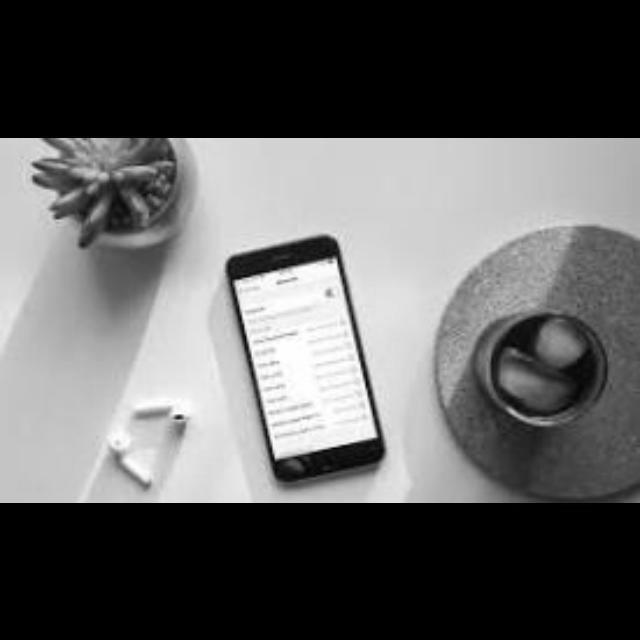fake: (219, 237, 385, 483)
